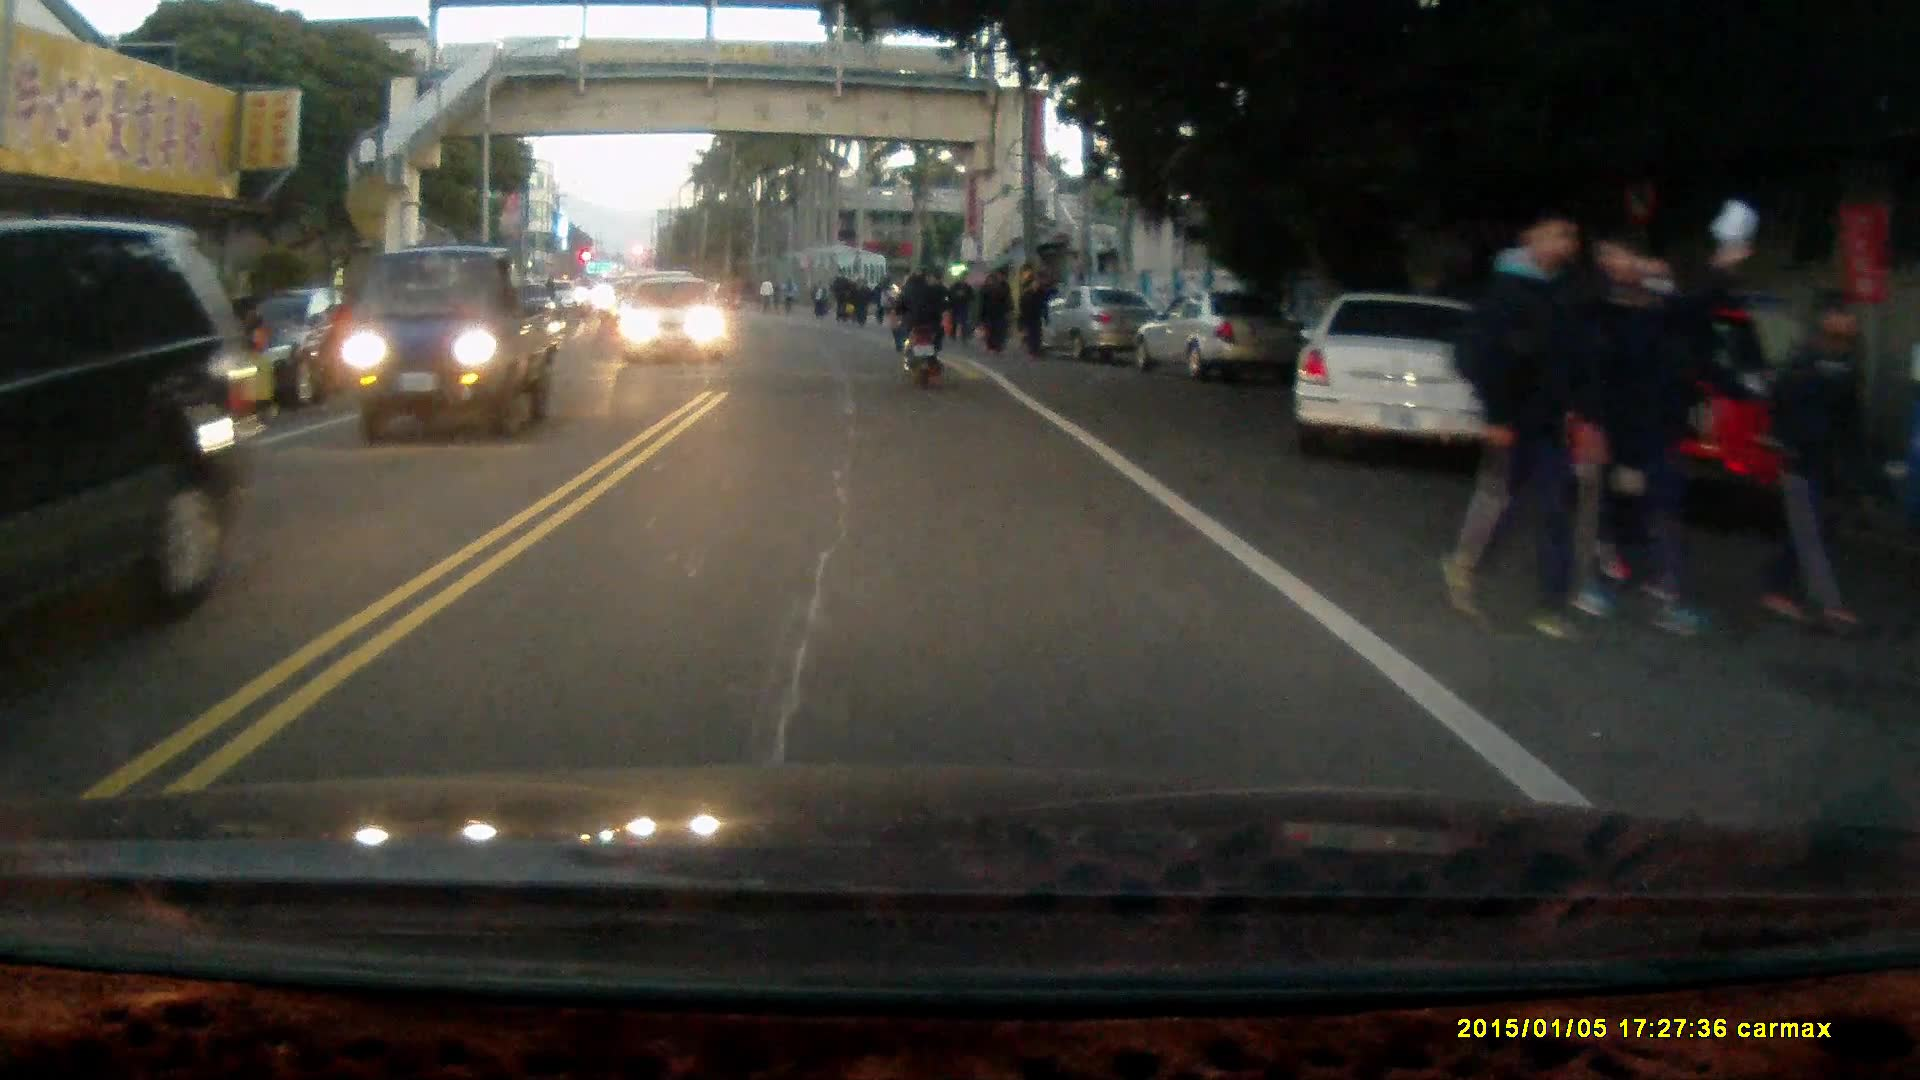pedestrian: (1439, 191, 1613, 643), (1575, 220, 1753, 642), (1757, 288, 1876, 642), (985, 261, 1015, 353), (978, 275, 1006, 363), (1020, 279, 1048, 355), (948, 271, 973, 346)
rider: (883, 262, 948, 388)
vehicle: (1, 214, 264, 639), (337, 246, 572, 448), (1294, 290, 1512, 456), (227, 284, 427, 408), (1142, 291, 1298, 390), (1037, 288, 1164, 367), (622, 279, 726, 364)
